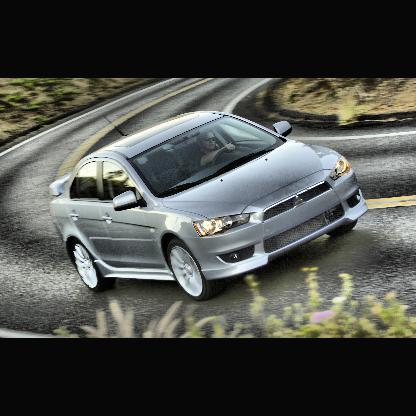Mitsubishi Lancer Sedan 2012: (47, 112, 373, 299)
